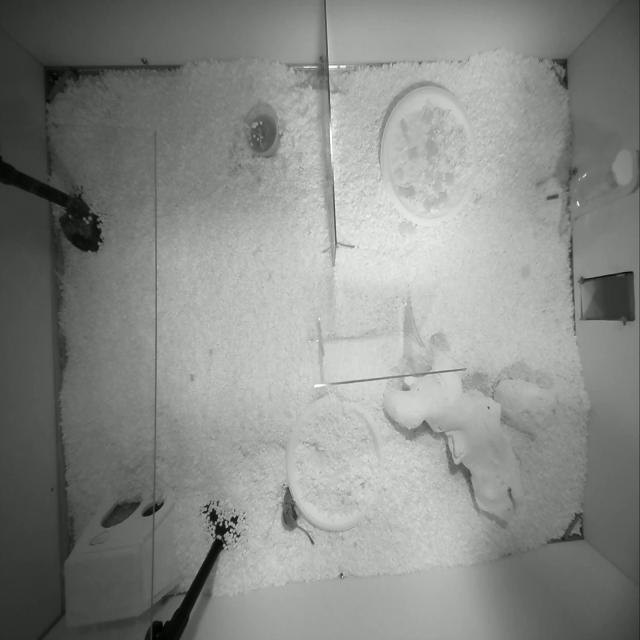pup_v_stripe: (282, 486, 314, 545)
